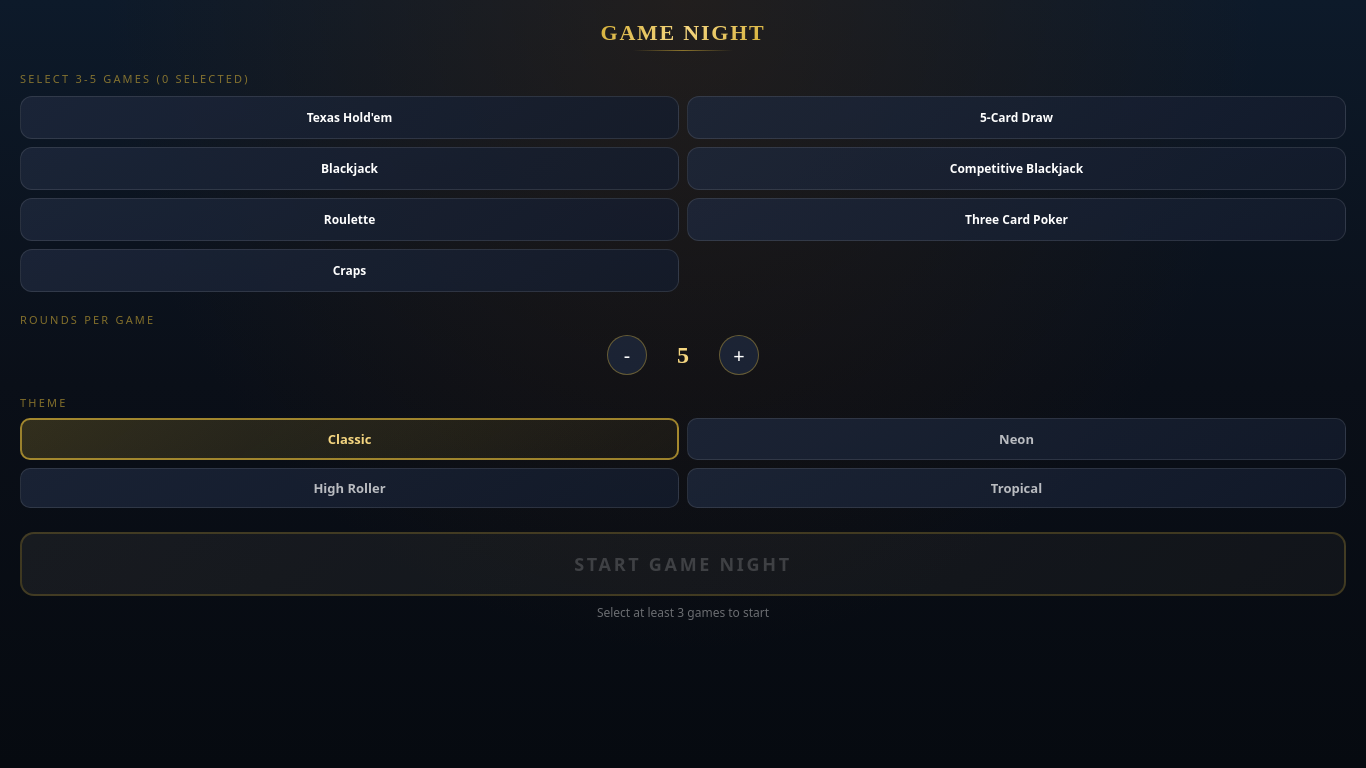
Test: GameNightSetupController › increments rounds per game
Click the button with test id "gn-rounds-plus" at [739, 355], box [719,335,759,375]
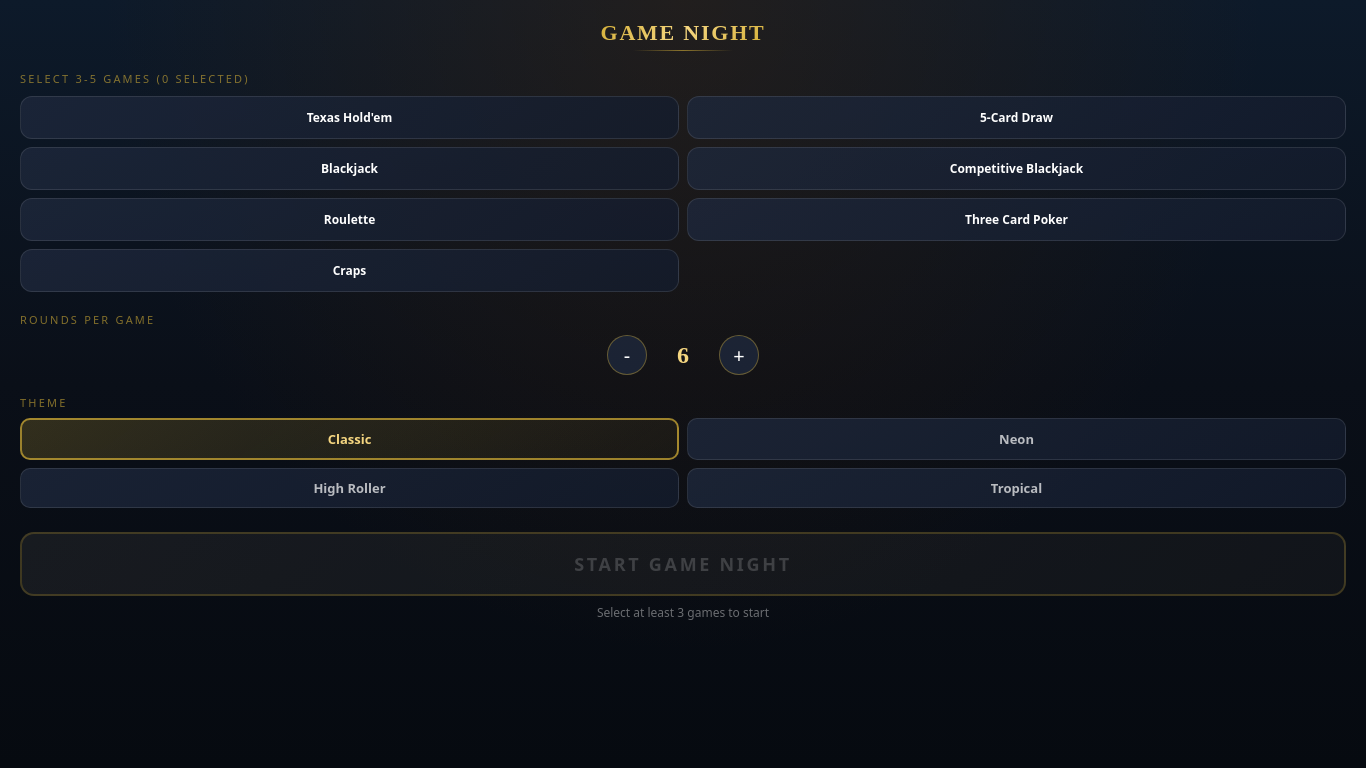
Now the text with test id "gn-rounds-value" reads "6", box [677,342,689,368]
